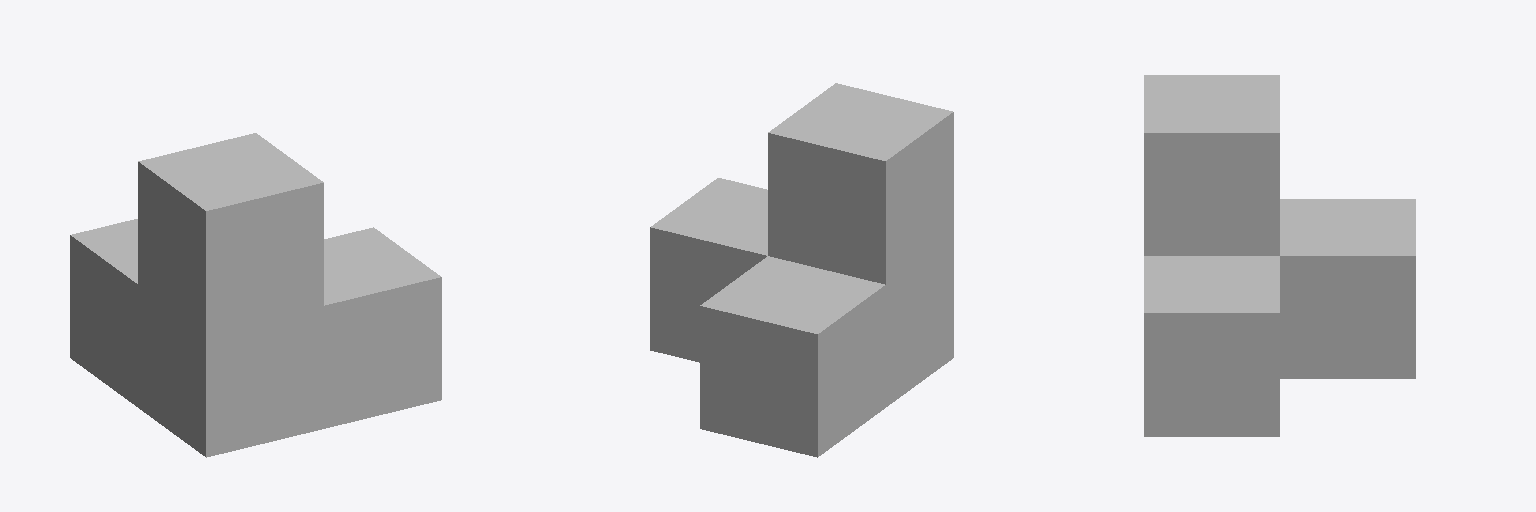
The model's file is Simple4.obj.
3 renders of one model, left to right at view 1: azimuth 30°, elevation 25°; view 2: azimuth 150°, elevation 25°; view 3: azimuth 270°, elevation 25°, orthographic.
Visible parts, largest first — view 1: Simple4; view 2: Simple4; view 3: Simple4.
Boxes of the visible parts, x1,y1,x2,y2 form: Simple4: [70, 133, 441, 457]; Simple4: [650, 83, 953, 457]; Simple4: [1144, 75, 1415, 436].
Bounding box in the file's own units: 2 × 2 × 2.